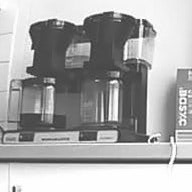not empty coffee: (6, 75, 71, 131)
